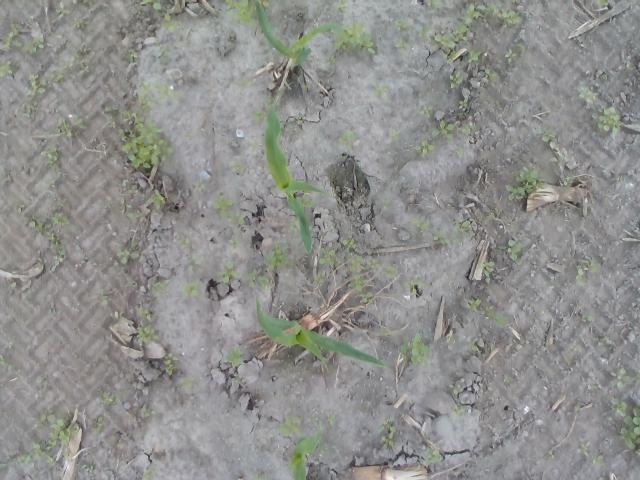Maize: (254, 294, 392, 372), (264, 105, 326, 257), (253, 0, 337, 67), (292, 428, 320, 480)
Weeds: (105, 102, 174, 172), (454, 3, 528, 40), (29, 213, 72, 266), (609, 394, 640, 456), (504, 165, 544, 203), (334, 22, 377, 55), (4, 21, 46, 54), (466, 296, 506, 328), (212, 191, 248, 225), (398, 334, 432, 366), (223, 0, 258, 30), (47, 418, 80, 448), (111, 238, 145, 266), (136, 79, 184, 98), (394, 17, 431, 41), (6, 441, 44, 464), (66, 47, 95, 76), (592, 106, 622, 134), (264, 240, 290, 272), (348, 253, 368, 293), (216, 258, 240, 287), (574, 256, 600, 282), (430, 119, 456, 145), (22, 72, 48, 97), (378, 418, 398, 449), (432, 230, 464, 248), (278, 414, 303, 437), (504, 42, 528, 65), (615, 368, 640, 389), (136, 324, 162, 344), (247, 271, 274, 290), (318, 246, 341, 268), (431, 31, 456, 51), (176, 280, 202, 298), (223, 346, 243, 368), (154, 38, 178, 56), (146, 190, 167, 210), (414, 140, 436, 159), (96, 390, 121, 406), (160, 13, 180, 33), (507, 238, 522, 264), (530, 127, 556, 142), (162, 351, 178, 375), (143, 0, 167, 16), (46, 146, 62, 169), (424, 446, 442, 466), (228, 158, 248, 176), (183, 254, 202, 272), (54, 118, 72, 137), (576, 85, 594, 104), (414, 215, 434, 232), (0, 60, 16, 81), (256, 0, 278, 15), (464, 334, 481, 353), (271, 15, 287, 34), (402, 280, 421, 296), (338, 132, 354, 151), (394, 37, 409, 57), (450, 220, 471, 234), (340, 236, 357, 253), (592, 334, 608, 352), (70, 16, 90, 30), (448, 72, 464, 89), (150, 281, 169, 295), (135, 304, 151, 320), (56, 0, 72, 16), (73, 114, 89, 130), (466, 48, 482, 64), (51, 63, 66, 80), (127, 47, 141, 65), (96, 287, 109, 306), (174, 378, 194, 390), (371, 82, 388, 96), (388, 126, 401, 144), (94, 416, 106, 434), (126, 210, 144, 222), (138, 95, 150, 113), (300, 198, 318, 210), (481, 260, 497, 273), (420, 102, 433, 118), (425, 0, 445, 10), (21, 96, 32, 114), (358, 293, 376, 304), (456, 99, 471, 112), (176, 237, 192, 249), (235, 78, 251, 90), (560, 175, 576, 187), (247, 138, 260, 152), (336, 0, 349, 14), (482, 68, 496, 81), (449, 383, 464, 395), (488, 207, 504, 218), (386, 267, 402, 278), (576, 446, 590, 458), (263, 96, 273, 112), (192, 179, 205, 191), (324, 55, 338, 66), (253, 110, 268, 120), (142, 408, 160, 416), (287, 456, 299, 468), (6, 276, 18, 288), (371, 257, 383, 269), (463, 123, 476, 134), (450, 408, 464, 418), (0, 352, 10, 366), (125, 183, 139, 193), (567, 343, 580, 353), (592, 456, 604, 466), (378, 327, 391, 336), (274, 88, 288, 96), (230, 238, 240, 249), (287, 221, 297, 232), (82, 463, 94, 472), (143, 468, 153, 478), (47, 456, 57, 466), (38, 416, 48, 426), (546, 450, 556, 460), (296, 116, 306, 126), (594, 0, 608, 7), (314, 274, 322, 286), (503, 375, 512, 385), (227, 32, 236, 42), (330, 414, 337, 426), (329, 222, 336, 234), (56, 199, 65, 208), (383, 199, 392, 208), (230, 376, 240, 384), (582, 313, 592, 321), (442, 52, 452, 60), (252, 474, 265, 480), (447, 336, 456, 344), (458, 148, 466, 156), (318, 448, 328, 454), (128, 280, 136, 287), (284, 30, 292, 36), (308, 416, 316, 421), (510, 0, 520, 4), (288, 304, 294, 310), (303, 85, 309, 91), (64, 452, 68, 460)
